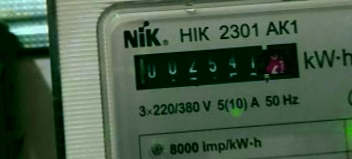0: (142, 58, 157, 80), (163, 55, 176, 76)
1: (244, 47, 256, 71)
2: (183, 52, 198, 75)
4: (224, 49, 236, 70)
5: (203, 51, 217, 75)
6: (267, 62, 278, 75)
screen: (118, 32, 310, 98)
